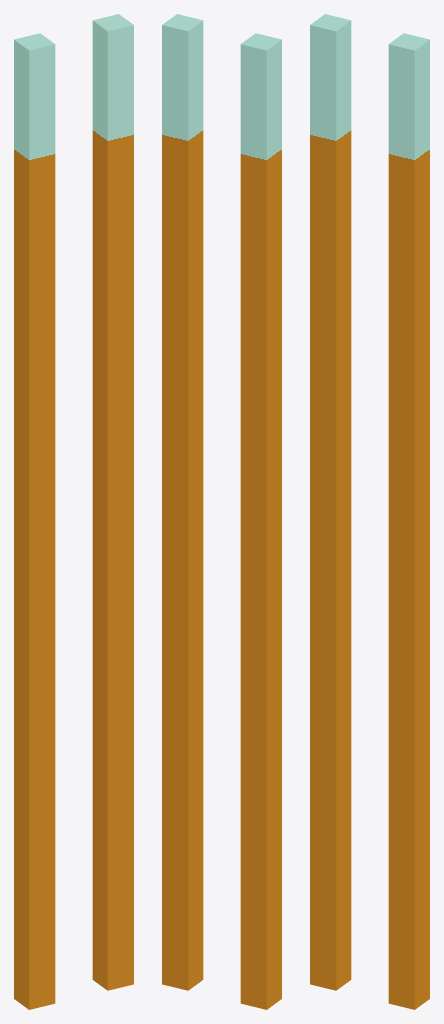
The picture shows the model from 3 angles, left to right: view 1: azimuth 30°, elevation 25°; view 2: azimuth 150°, elevation 25°; view 3: azimuth 330°, elevation 25°; orthographic projection.
Parts seen in each view (by area): view 1: Object; view 2: Object; view 3: Object.
Part boxes in pixels (box(x1,y1,x2,y2)): Object: box(14, 14, 133, 1009); Object: box(162, 14, 281, 1009); Object: box(310, 14, 429, 1009).
Bounding box in the file's own units: 8 × 70 × 2.
Materials: 1 (1 with a texture image).
